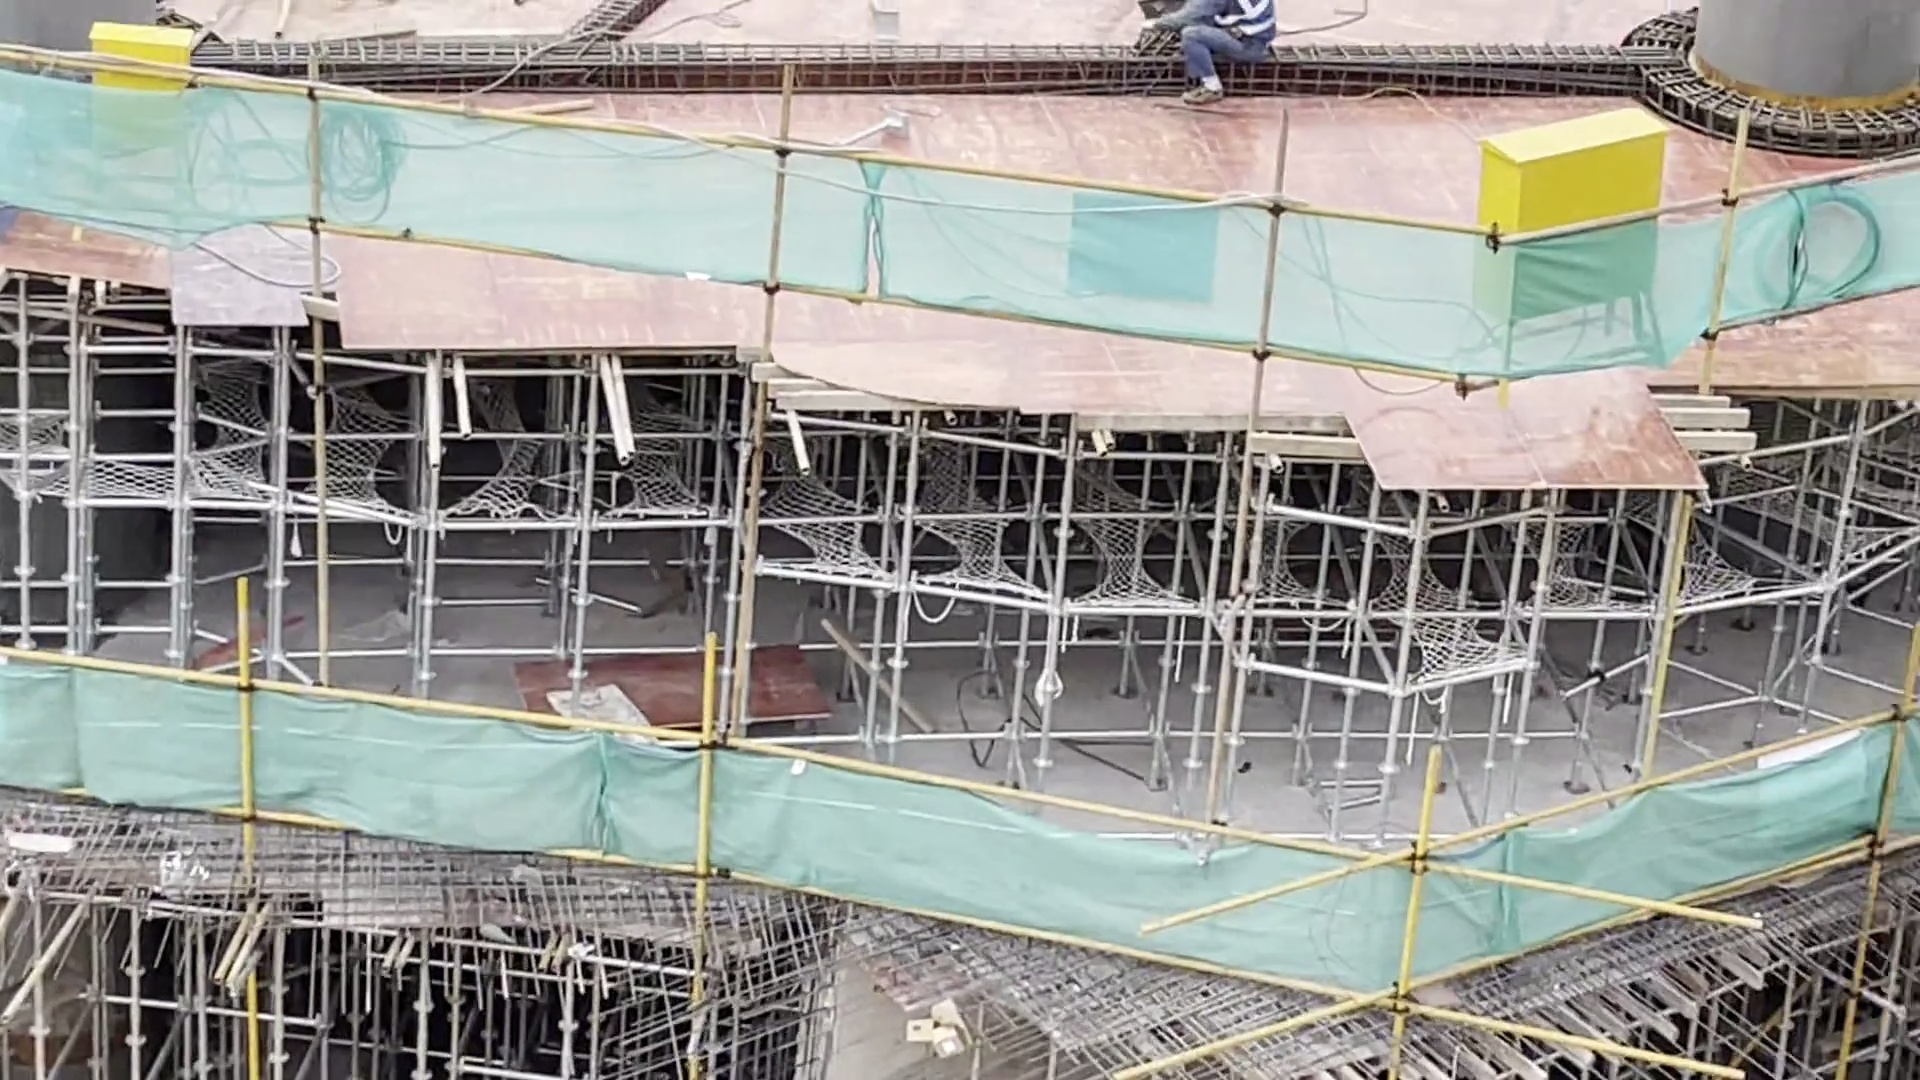ebox: (1481, 108, 1668, 332), (90, 20, 195, 178)
person: (1135, 1, 1281, 112)
vest: (1220, 1, 1273, 48)
